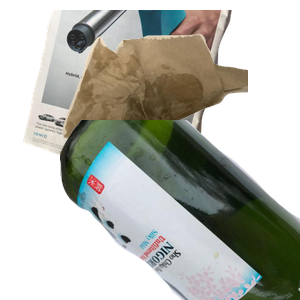glass: (60, 120, 300, 300)
paper: (20, 10, 244, 190)
plastic: (87, 178, 234, 300)
trash: (60, 31, 300, 189)
